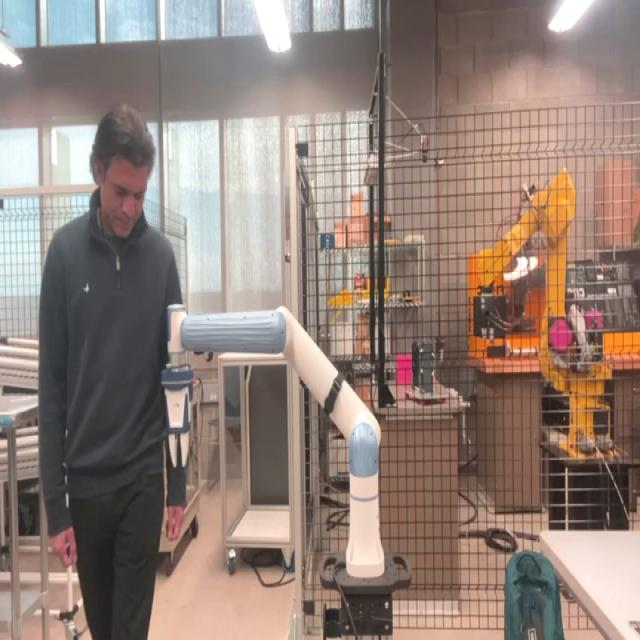robot: (161, 301, 413, 636)
